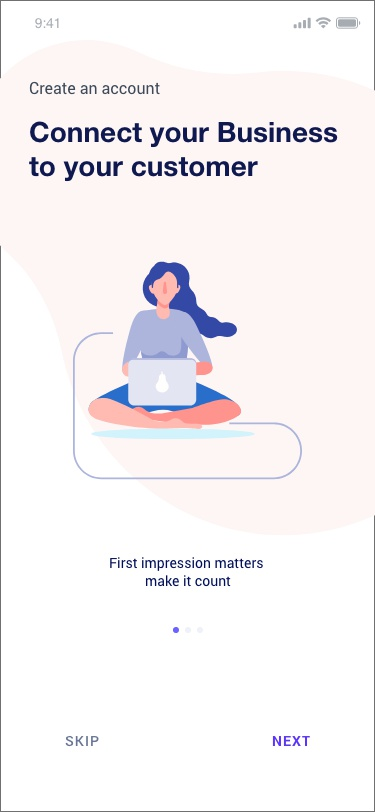Image: (73, 261, 303, 480)
PageIndicator: (172, 626, 205, 635)
Text: (29, 121, 338, 183), (110, 556, 264, 587), (30, 82, 161, 96), (272, 735, 311, 747), (66, 735, 100, 747)
UpperTaskBar: (35, 17, 361, 31)
